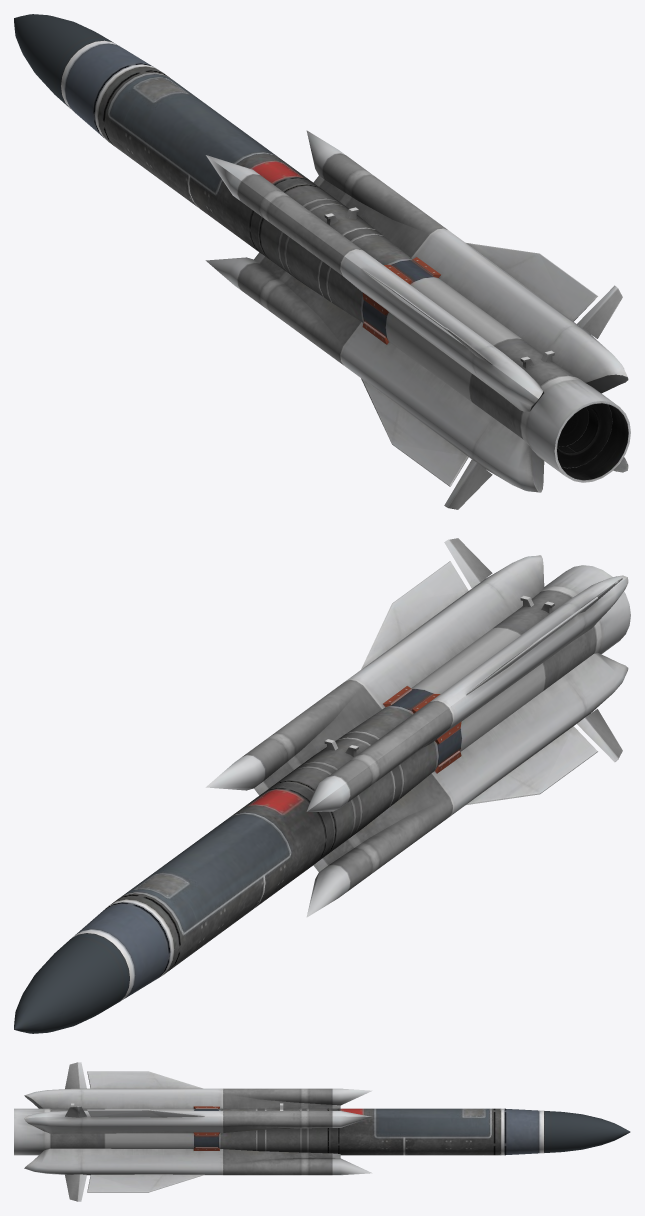
3 renders of one model, top to bottom at view 1: azimuth 30°, elevation 25°; view 2: azimuth 150°, elevation 25°; view 3: azimuth 270°, elevation 25°, orthographic. The views are drawn at different scales.
Visible parts, largest first — view 1: body|w_lasm_r0-Mat; view 2: body|w_lasm_r0-Mat; view 3: body|w_lasm_r0-Mat.
Part boxes in pixels (box(x1,y1,x2,y2)): body|w_lasm_r0-Mat: box(14, 14, 630, 509); body|w_lasm_r0-Mat: box(14, 538, 630, 1033); body|w_lasm_r0-Mat: box(14, 1062, 630, 1201).
Bounding box in the file's own units: 0.8051 × 0.8051 × 4.73.
Materials: 1 (1 with a texture image).
